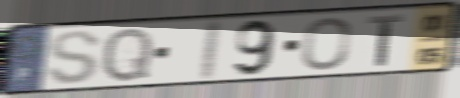9: (231, 18, 279, 78)
I: (196, 18, 226, 83)
O: (300, 15, 354, 72)
Q: (99, 25, 156, 84)
S: (45, 29, 104, 87)
T: (366, 13, 406, 68)
